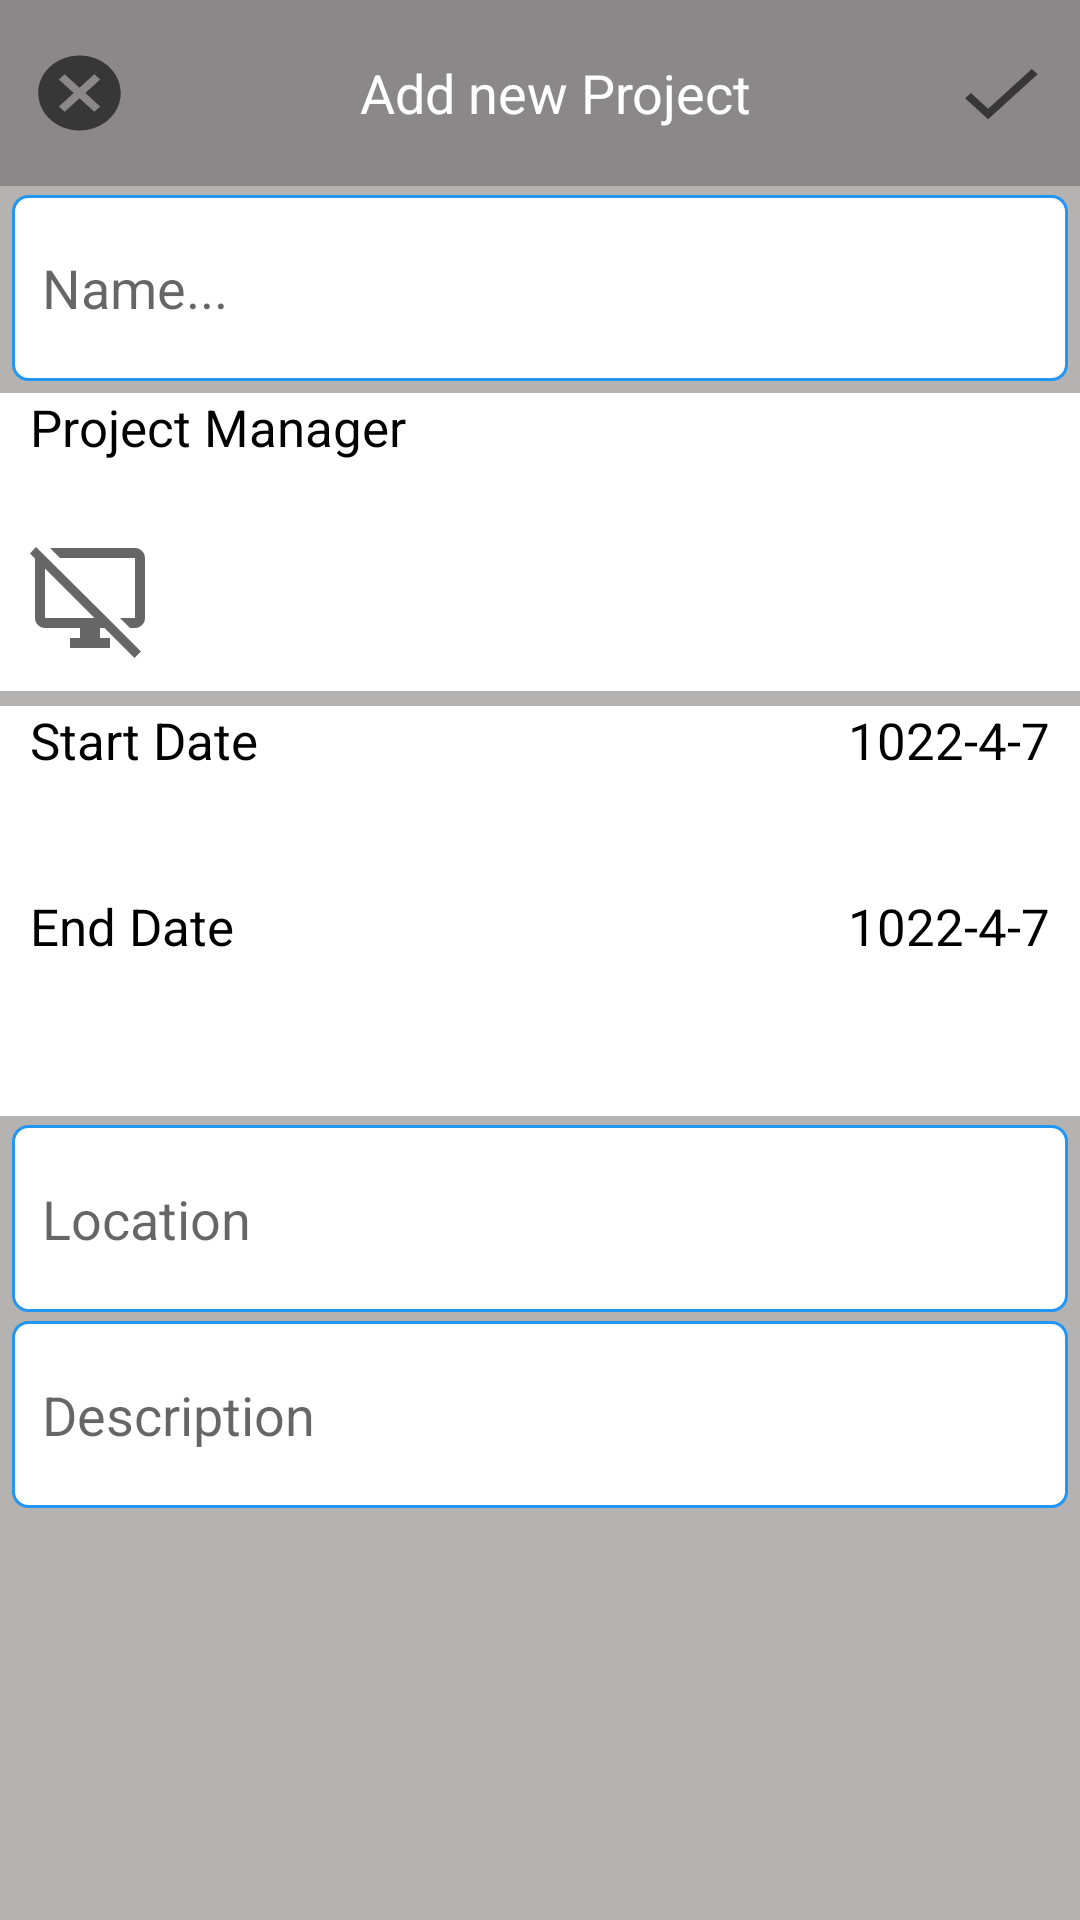

Icons on this 1080px x 1920px Android screen, each with its box as (x1, y1, x2, y2):
check: (965, 69, 1037, 119)
cross: (38, 55, 121, 131)
